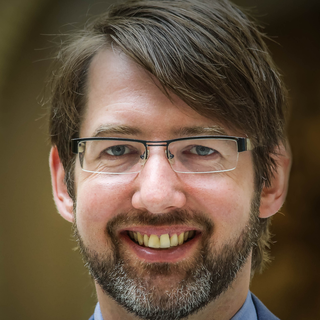eye: (178, 141, 227, 166), (97, 141, 141, 166)
